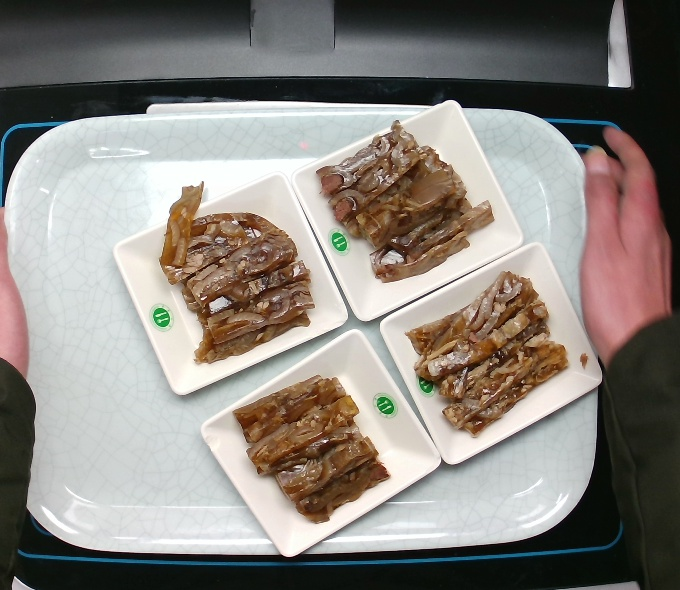wcq-DongZhuPi: (314, 116, 501, 290), (153, 178, 319, 366), (403, 267, 574, 438), (228, 372, 393, 527)
